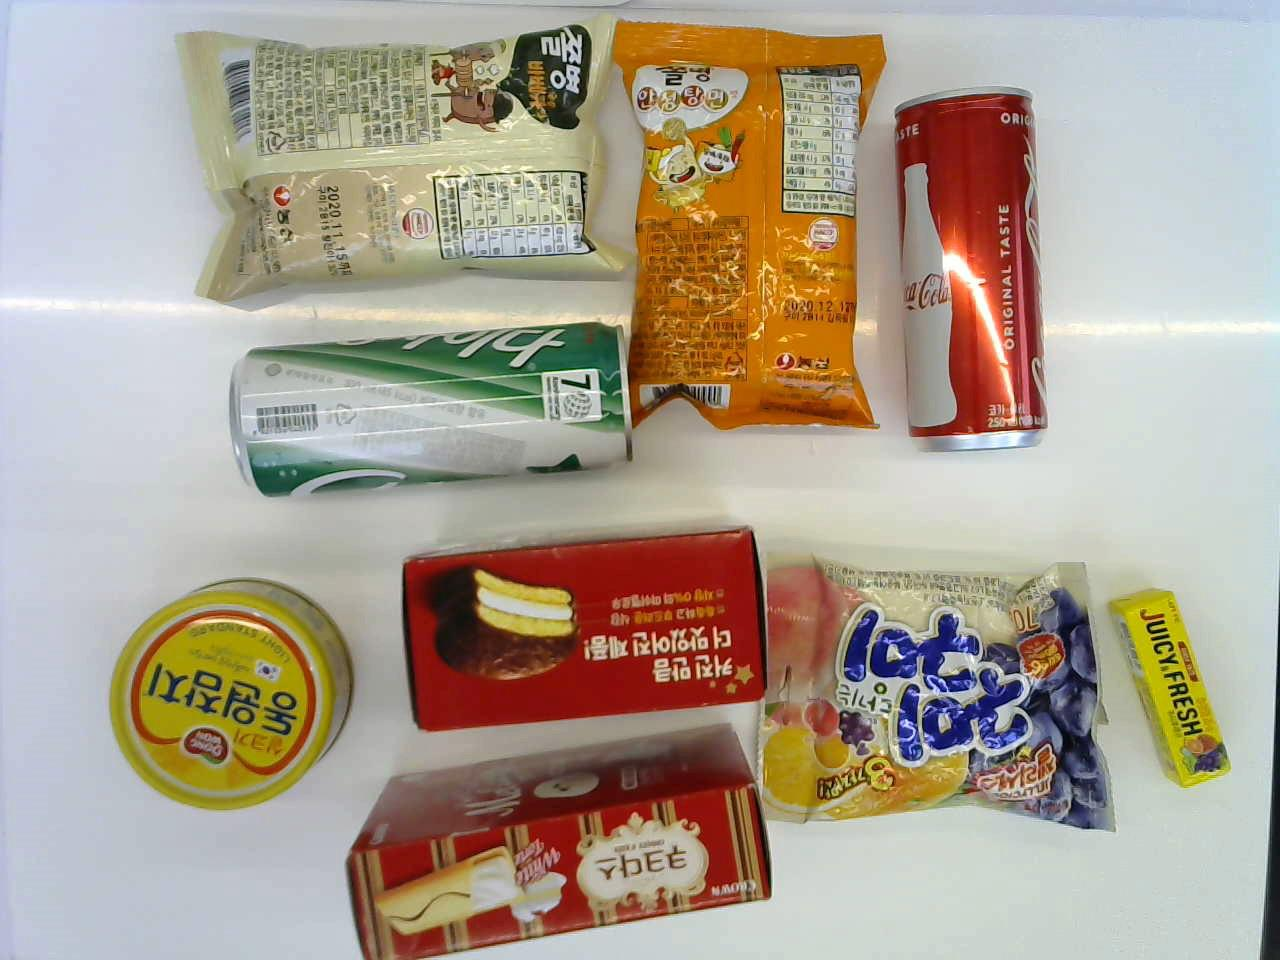chocopie: (396, 525, 758, 726)
cidar: (220, 327, 635, 485)
coke: (887, 86, 1051, 448)
couque_white: (349, 728, 775, 956)
gumi_gumi: (751, 558, 1110, 824)
jjolbyung_noodle: (618, 26, 886, 419)
jjolbyung_ori: (175, 14, 613, 284)
juicyfresh: (1111, 568, 1228, 792)
tuna: (105, 569, 356, 812)
